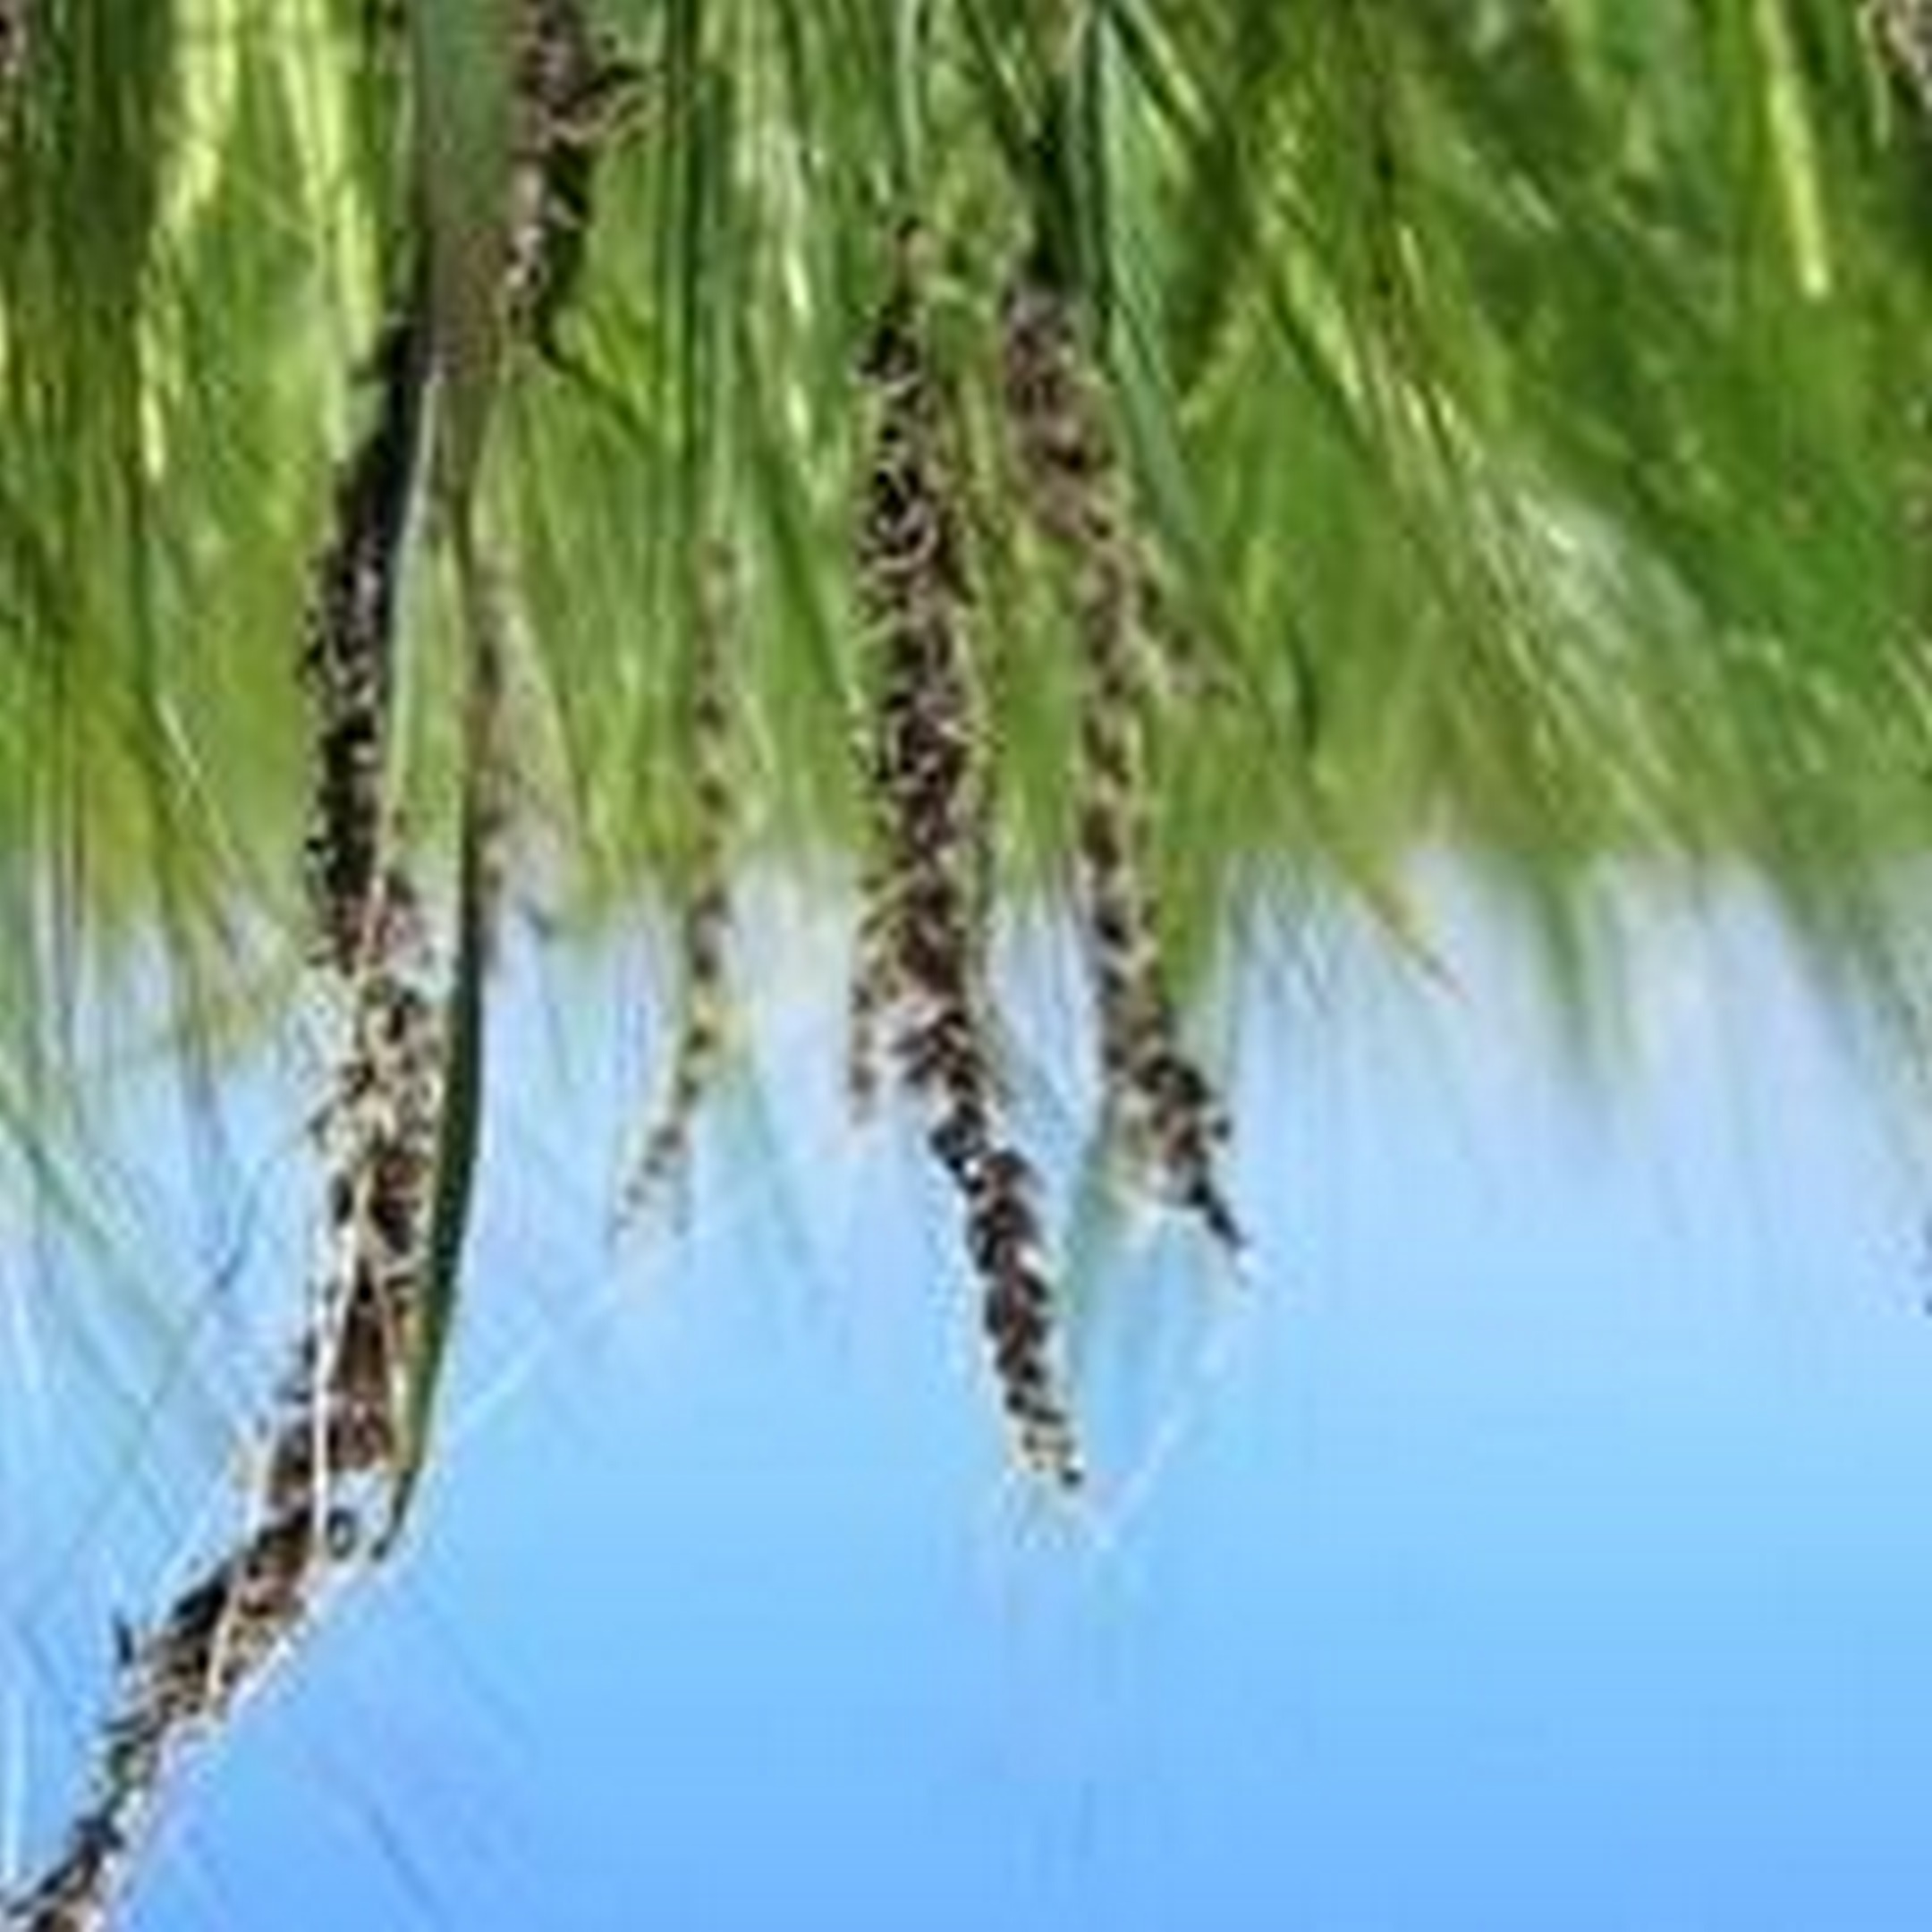Wheat Loose Smut: (821, 356, 1297, 1493)
